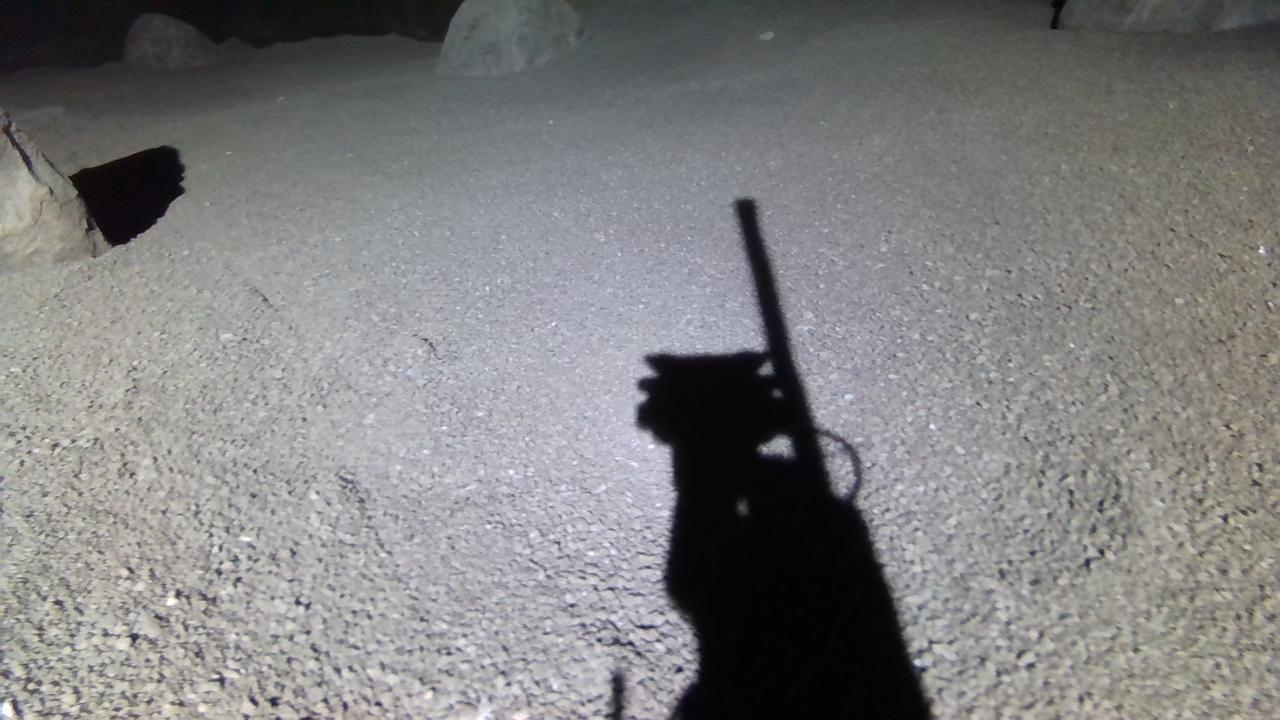rock: (435, 0, 582, 74), (1061, 0, 1280, 30), (122, 12, 219, 67)
